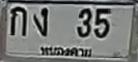3: (76, 7, 91, 37)
5: (93, 7, 110, 37)
A01: (10, 6, 26, 35)
A07: (33, 7, 47, 36)
NKI: (37, 45, 95, 59)
